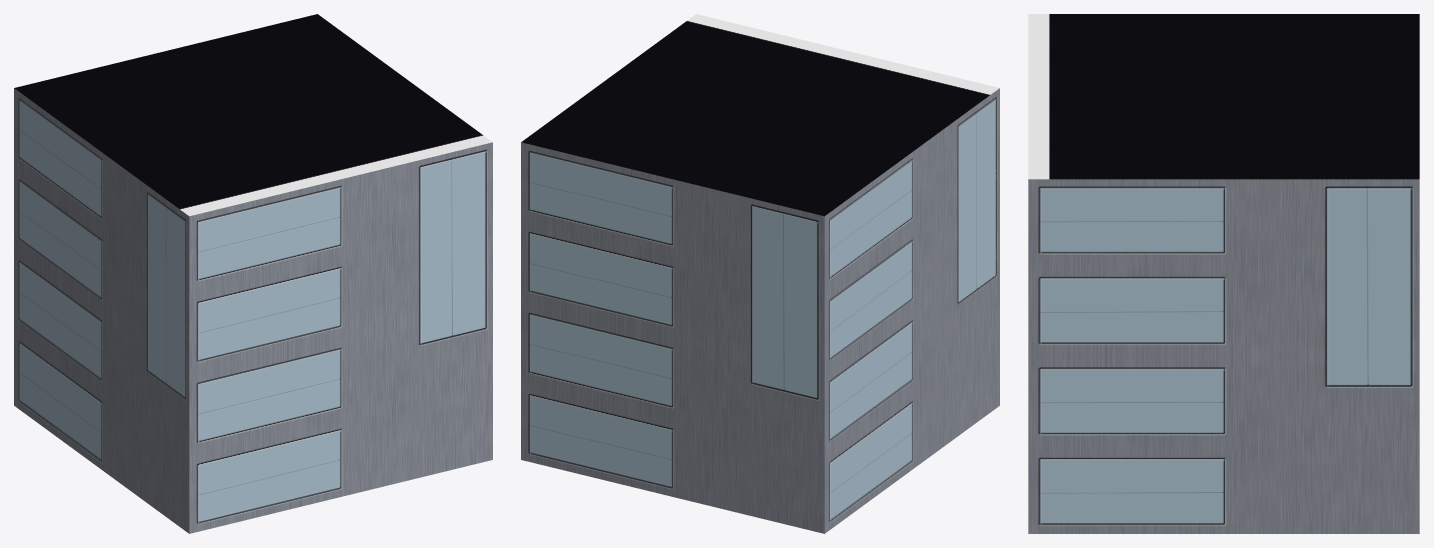
The model's file is Building_Middle_07.dae.
3 renders of one model, left to right at view 1: azimuth 30°, elevation 25°; view 2: azimuth 150°, elevation 25°; view 3: azimuth 270°, elevation 25°, orthographic. The views are drawn at different scales.
Parts seen in each view (by area): view 1: Building_Middle_07; view 2: Building_Middle_07; view 3: Building_Middle_07.
Boxes of the visible parts, <box> form: Building_Middle_07: <box>14,14,492,533</box>; Building_Middle_07: <box>521,14,999,533</box>; Building_Middle_07: <box>1028,14,1419,533</box>.
Bounding box in the file's own units: 45.04 × 45.04 × 45.04.
